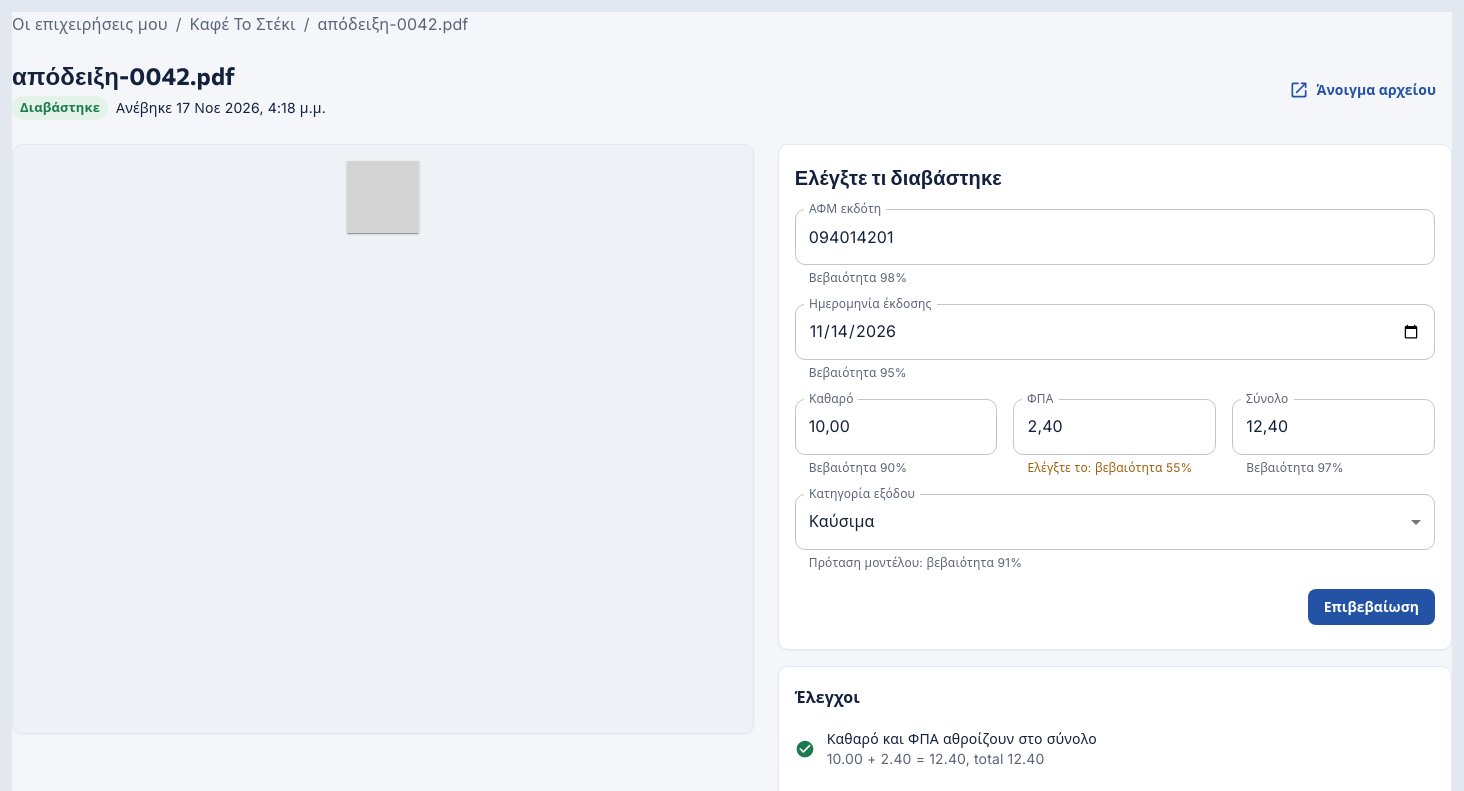
it: DocumentPage › sends the corrected values as numbers and says the corrections help
The image size is (1464, 791).
Replace the text in the field labelled "Καθαρό" with "100". click: (896, 427)
box: [795, 399, 998, 455]
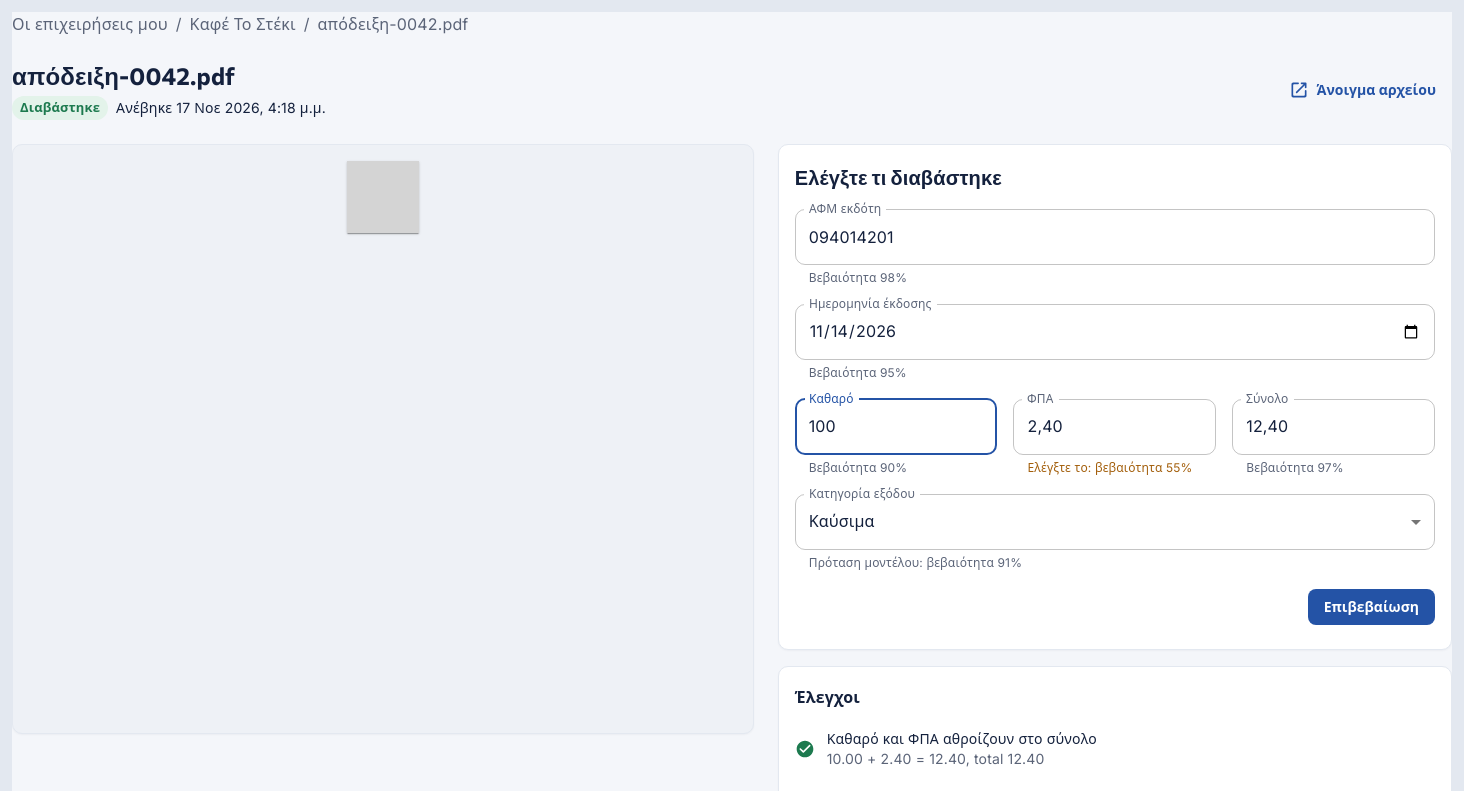
Replace the text in the field labelled "ΦΠΑ" with "24,00". click: (1115, 427)
box: [1014, 399, 1216, 455]
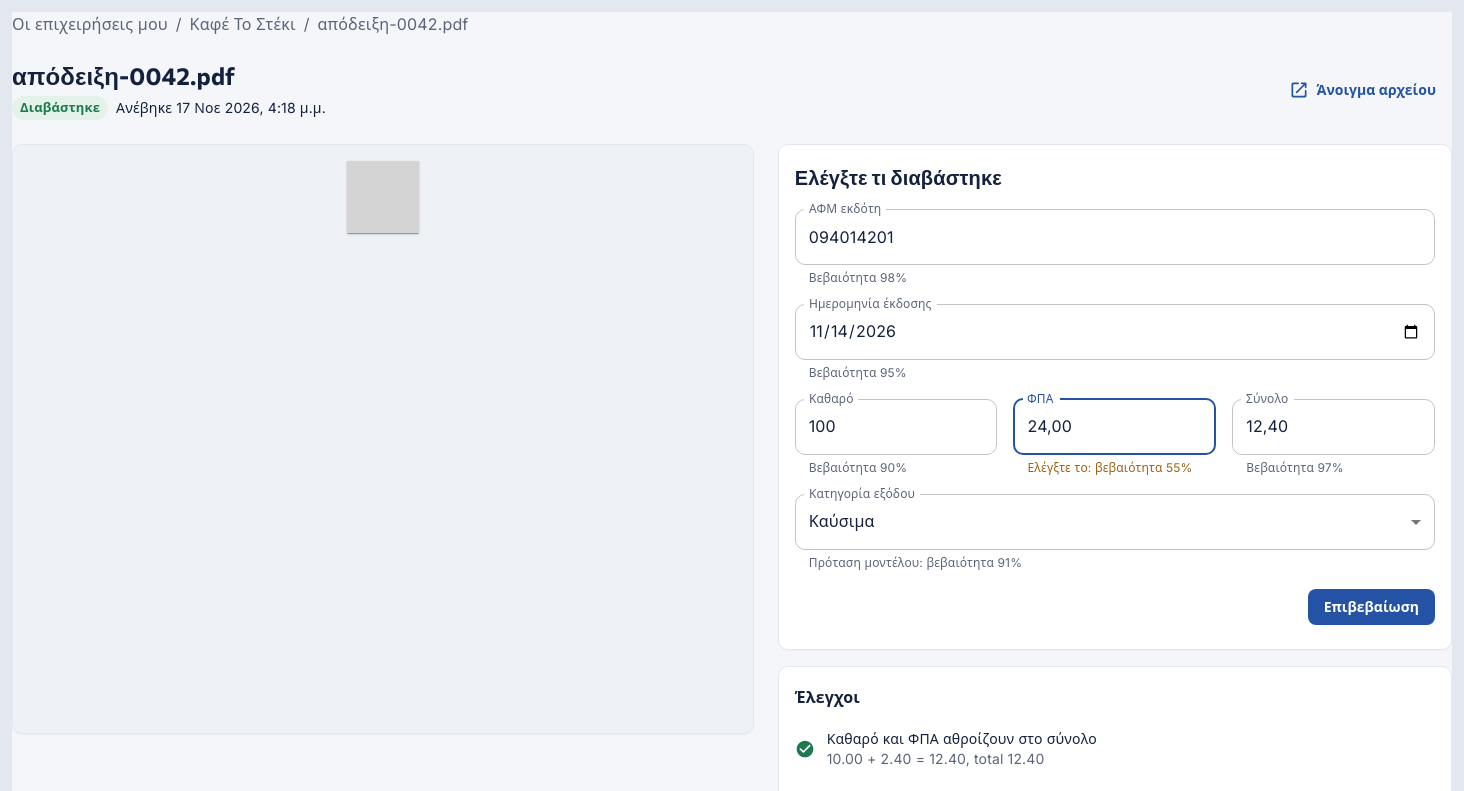
Replace the text in the field labelled "Σύνολο" with "124". click: (1334, 427)
box: [1232, 399, 1435, 455]
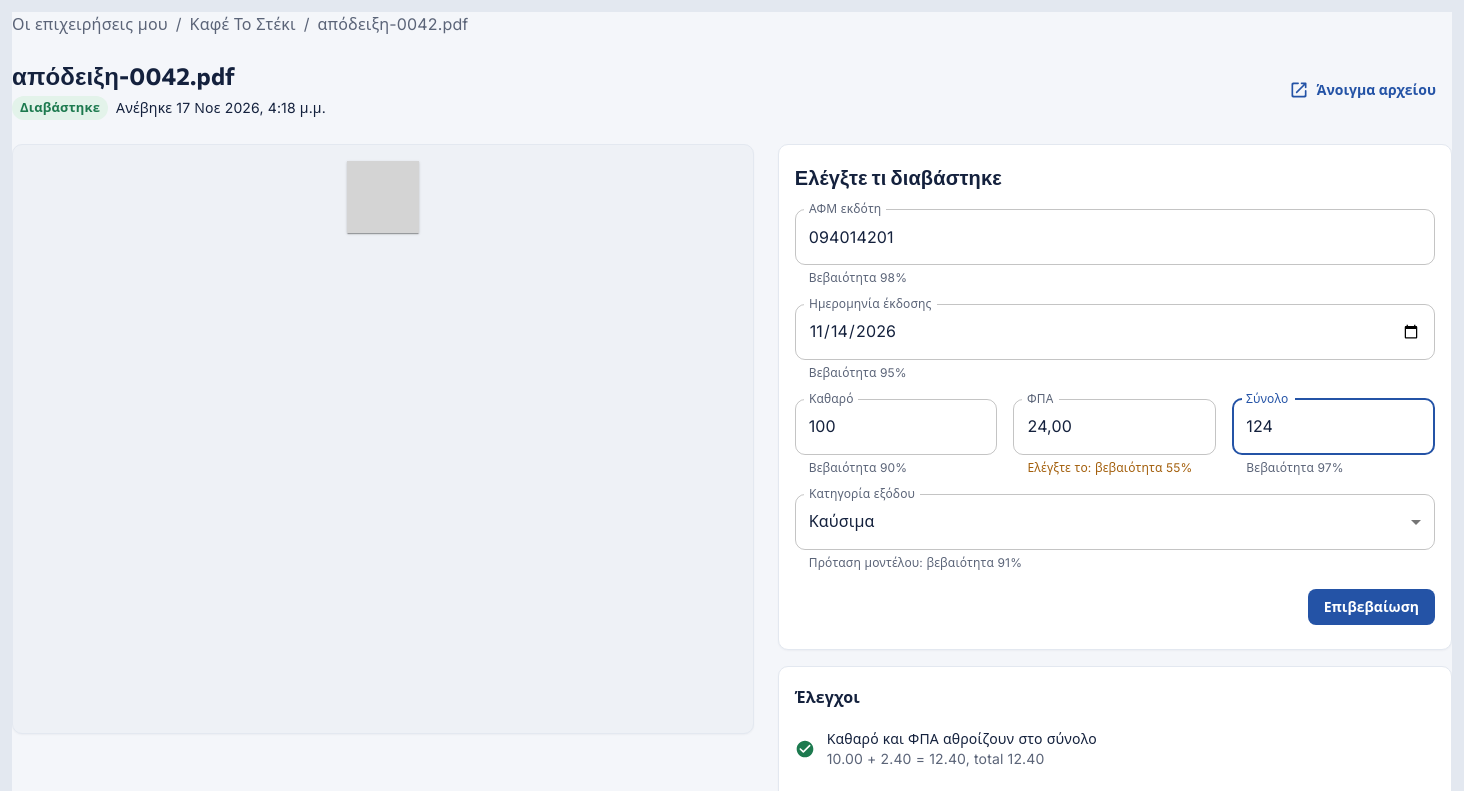
Click the dropdown named "Κατηγορία εξόδου". click: click(842, 521)
box: [809, 511, 874, 531]
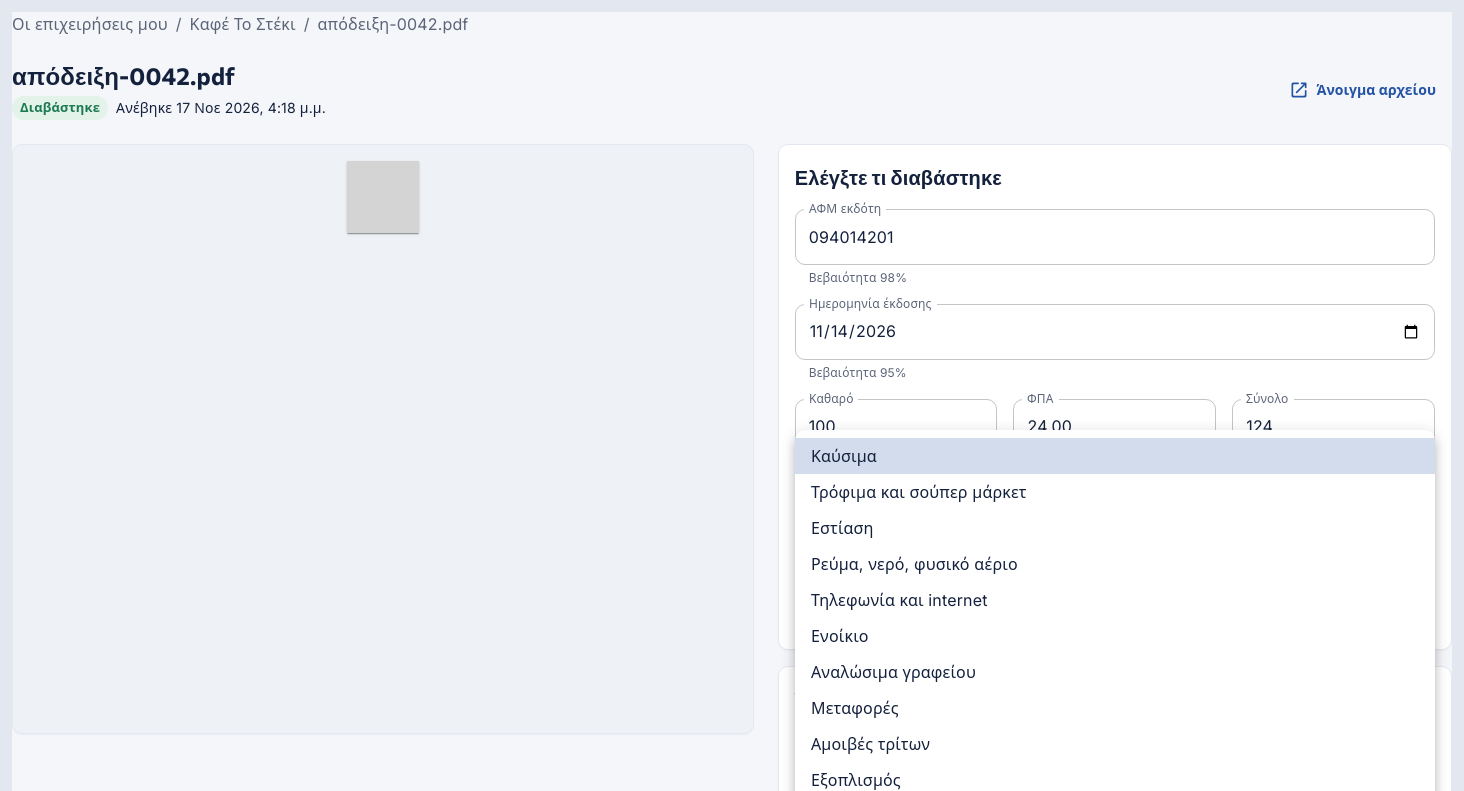
Click the option "Μεταφορές". click: click(855, 708)
box: [811, 698, 898, 718]
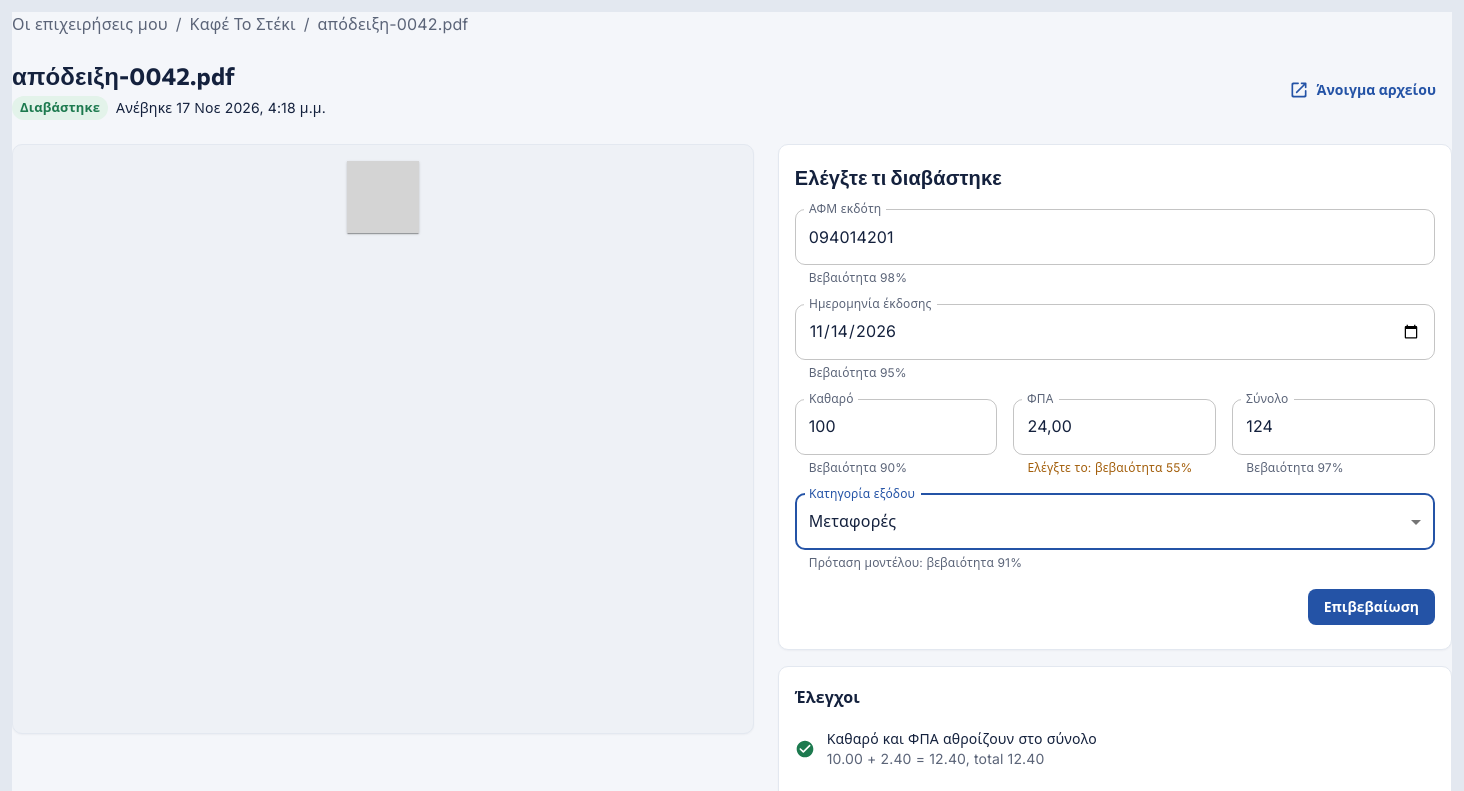
Click the button "Επιβεβαίωση". click: click(1371, 607)
box: [1308, 589, 1435, 625]
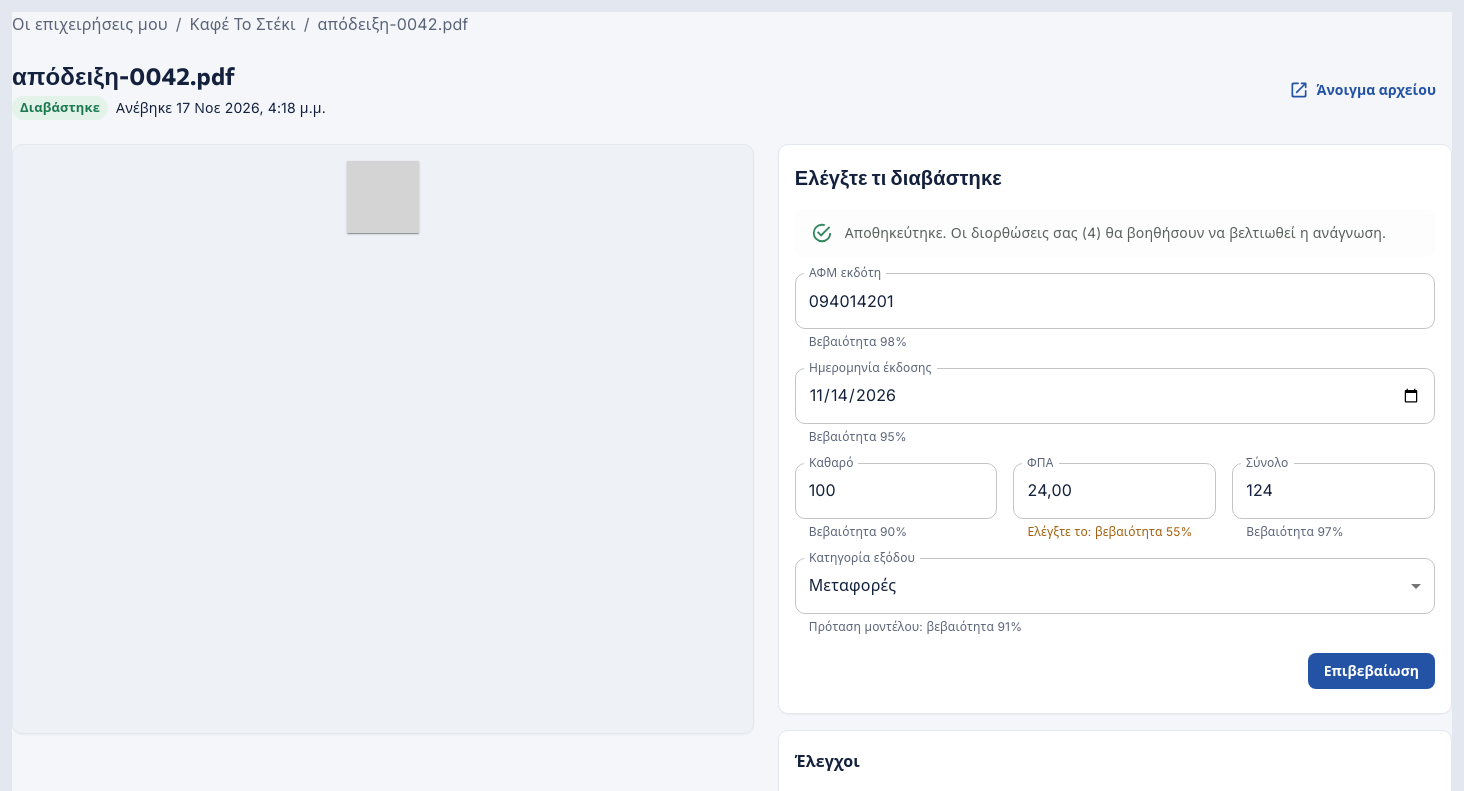
Now the text "Οι διορθώσεις σας (4)" is shown, box [947, 224, 1386, 241]
